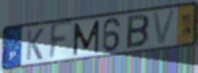6: (101, 16, 122, 54)
B: (124, 13, 150, 50)
F: (47, 20, 74, 64)
K: (24, 27, 45, 62)
M: (73, 19, 101, 58)
V: (151, 8, 178, 48)
